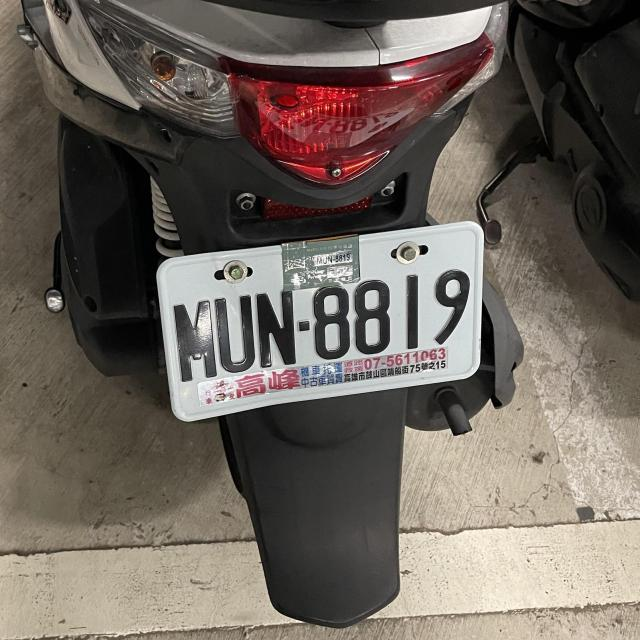W: (146, 228, 487, 412)
